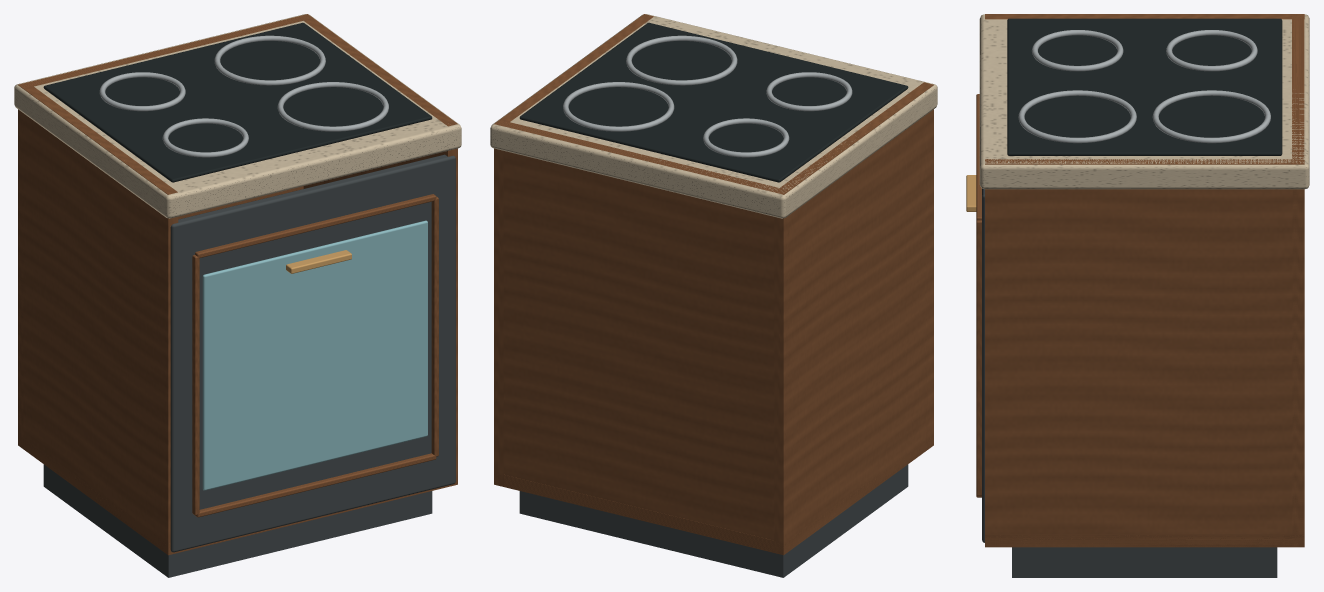
The model's file is stove_arcade-cb54f2335137.glb.
3 renders of one model, left to right at view 1: azimuth 30°, elevation 25°; view 2: azimuth 150°, elevation 25°; view 3: azimuth 270°, elevation 25°, orthographic. The views are drawn at different scales.
Parts seen in each view (by area): view 1: surface_walnut, surface_graphite, surface_glass, surface_black, surface_terrazzo, surface_steel, surface_brass; view 2: surface_walnut, surface_black, surface_terrazzo, surface_graphite, surface_steel; view 3: surface_walnut, surface_black, surface_terrazzo, surface_graphite, surface_steel.
Boxes of the visible parts, box(x1,y1,x2,y2) form: surface_walnut: box(18, 14, 457, 555); surface_graphite: box(43, 154, 455, 577); surface_glass: box(202, 220, 427, 490); surface_black: box(43, 22, 432, 182); surface_terrazzo: box(14, 14, 461, 218); surface_steel: box(99, 35, 388, 157); surface_brass: box(286, 250, 351, 273); surface_walnut: box(494, 14, 933, 555); surface_black: box(519, 22, 908, 182); surface_terrazzo: box(490, 14, 937, 218); surface_graphite: box(519, 464, 908, 577); surface_steel: box(563, 35, 852, 157); surface_walnut: box(976, 14, 1304, 547); surface_black: box(1007, 18, 1282, 155); surface_terrazzo: box(979, 14, 1309, 189); surface_graphite: box(982, 188, 1277, 577); surface_steel: box(1018, 30, 1270, 143).
Bounding box in the file's own units: 0.704 × 0.9169 × 0.6663.
7 materials, 2 textured.
